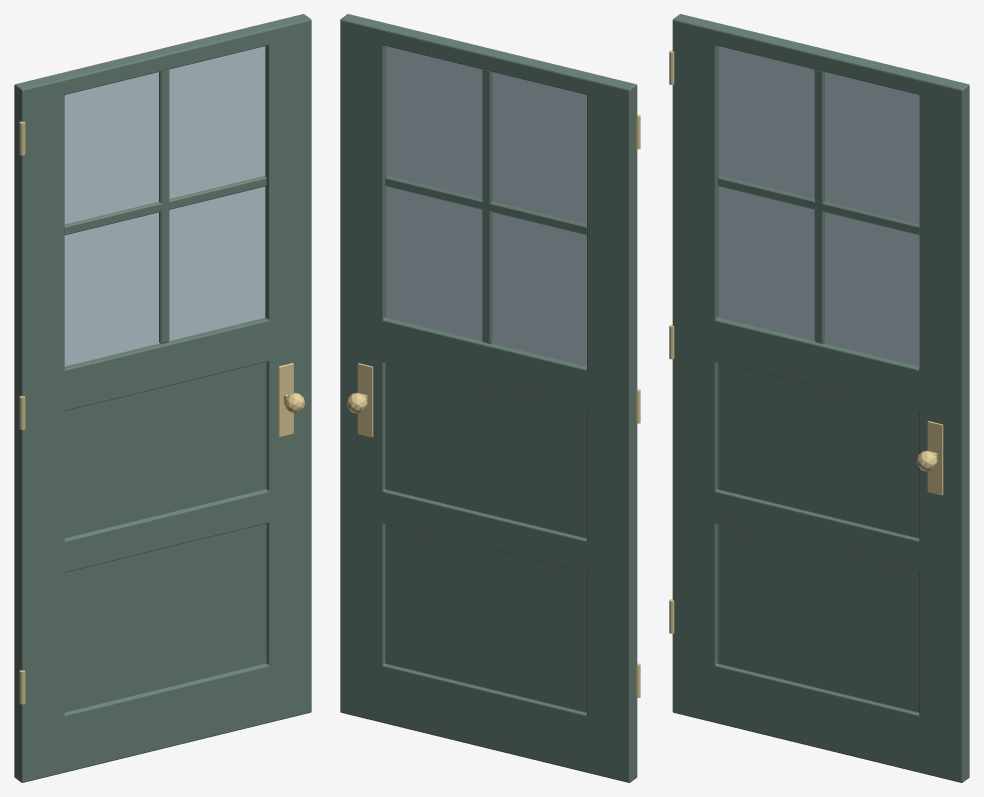
File: door_leaf_hall.glb
3 views of the same model, side by side, from view 1: azimuth 30°, elevation 25°; view 2: azimuth 150°, elevation 25°; view 3: azimuth 330°, elevation 25° (orthographic).
Visible parts, largest first — view 1: door_leaf_hall_door, door_leaf_hall_glass, door_leaf_hall_brass; view 2: door_leaf_hall_door, door_leaf_hall_glass, door_leaf_hall_brass; view 3: door_leaf_hall_door, door_leaf_hall_glass, door_leaf_hall_brass.
Part boxes in pixels (x1,y1,x2,y2): door_leaf_hall_door: [14, 14, 311, 782]; door_leaf_hall_glass: [64, 46, 265, 366]; door_leaf_hall_brass: [19, 121, 305, 704]; door_leaf_hall_door: [340, 14, 637, 782]; door_leaf_hall_glass: [386, 46, 586, 366]; door_leaf_hall_brass: [346, 115, 640, 697]; door_leaf_hall_door: [672, 14, 969, 782]; door_leaf_hall_glass: [718, 46, 919, 366]; door_leaf_hall_brass: [669, 50, 943, 633].
Size of the model in its own units: 0.948 by 2.15 by 0.205.
